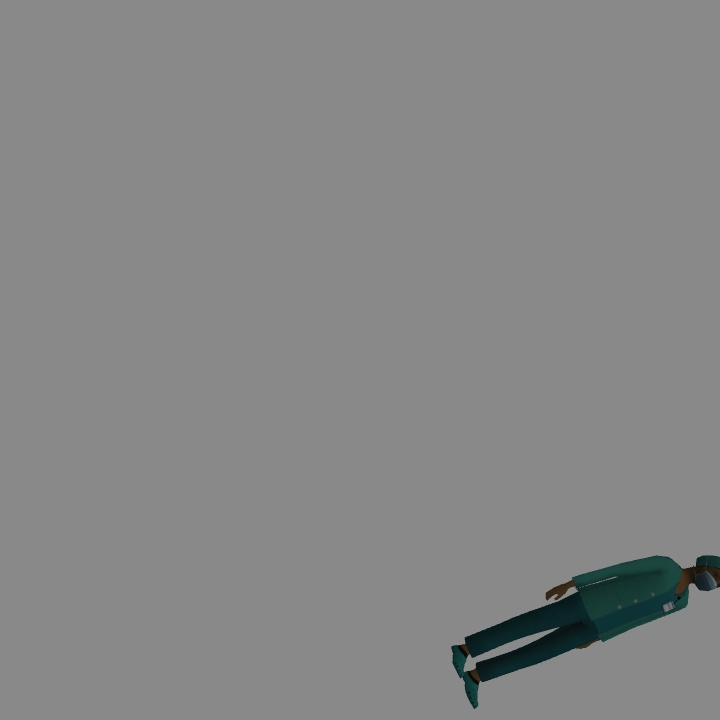victim: (451, 555, 720, 710)
